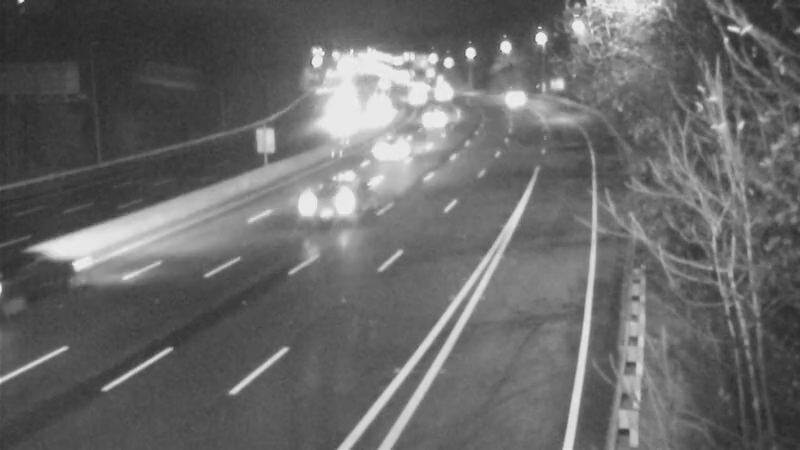vehicle: (278, 172, 358, 252), (415, 67, 465, 117), (482, 70, 532, 120), (387, 72, 437, 122), (405, 92, 455, 142), (365, 122, 415, 172), (351, 91, 401, 141), (319, 88, 369, 138)
